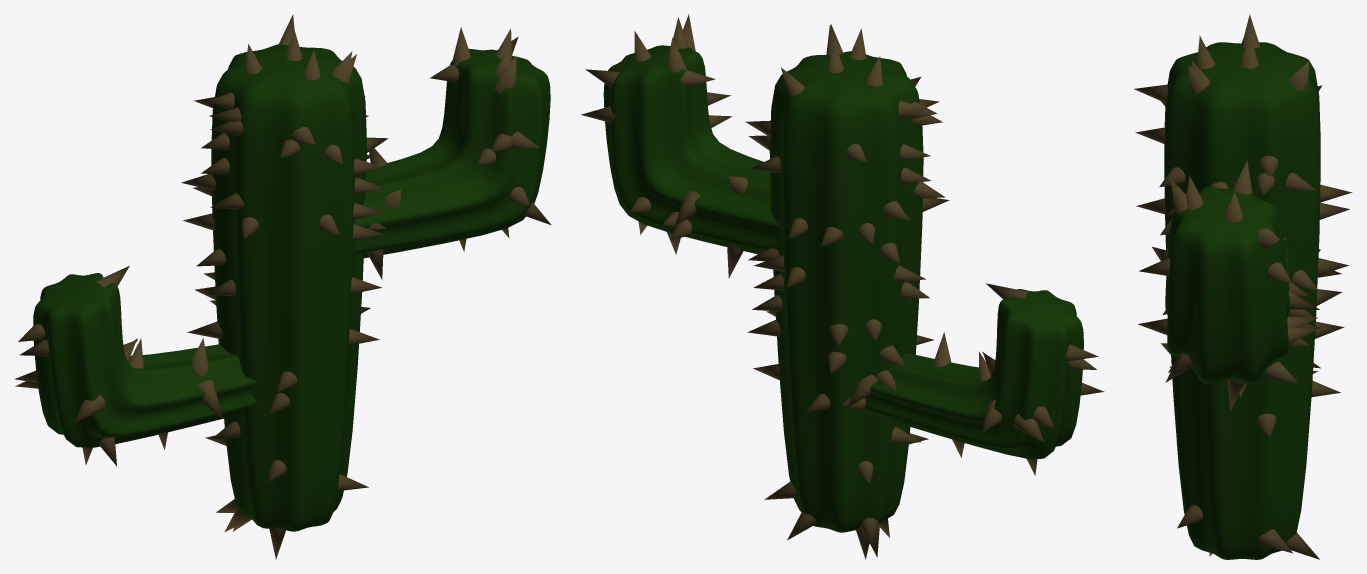
The model's file is Cactus.fbx.
The picture shows the model from 3 angles, left to right: view 1: azimuth 30°, elevation 25°; view 2: azimuth 150°, elevation 25°; view 3: azimuth 270°, elevation 25°; orthographic projection. The views are drawn at different scales.
Visible parts, largest first — view 1: Cactus; view 2: Cactus; view 3: Cactus, Cactus|Thorns|Dupli|61, Cactus|Thorns|Dupli|82, Cactus|Thorns|Dupli|43, Cactus|Thorns|Dupli|96, Cactus|Thorns|Dupli|74, Cactus|Thorns|Dupli|104, Cactus|Thorns|Dupli|63, Cactus|Thorns|Dupli|80, Cactus|Thorns|Dupli|97, Cactus|Thorns|Dupli|94, Cactus|Thorns|Dupli|69 (+19 smaller).
Boxes of the visible parts, bbox=[...] form: Cactus: bbox=[33, 44, 550, 531]; Cactus: bbox=[603, 45, 1083, 532]; Cactus: bbox=[1164, 42, 1320, 559]; Cactus|Thorns|Dupli|61: bbox=[1258, 529, 1292, 553]; Cactus|Thorns|Dupli|82: bbox=[1285, 532, 1319, 559]; Cactus|Thorns|Dupli|43: bbox=[1265, 362, 1297, 382]; Cactus|Thorns|Dupli|96: bbox=[1233, 160, 1252, 194]; Cactus|Thorns|Dupli|74: bbox=[1289, 61, 1309, 91]; Cactus|Thorns|Dupli|104: bbox=[1165, 353, 1192, 382]; Cactus|Thorns|Dupli|63: bbox=[1240, 35, 1258, 68]; Cactus|Thorns|Dupli|80: bbox=[1196, 35, 1214, 69]; Cactus|Thorns|Dupli|97: bbox=[1186, 176, 1203, 209]; Cactus|Thorns|Dupli|94: bbox=[1170, 179, 1187, 213]; Cactus|Thorns|Dupli|69: bbox=[1134, 84, 1167, 102].
Size of the model in its own units: 840 by 798 by 292.
